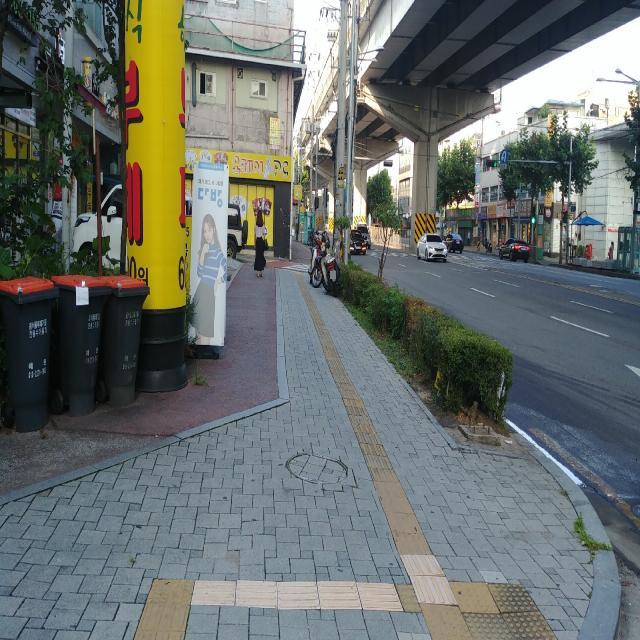횡단보도: (280, 264, 310, 272)
